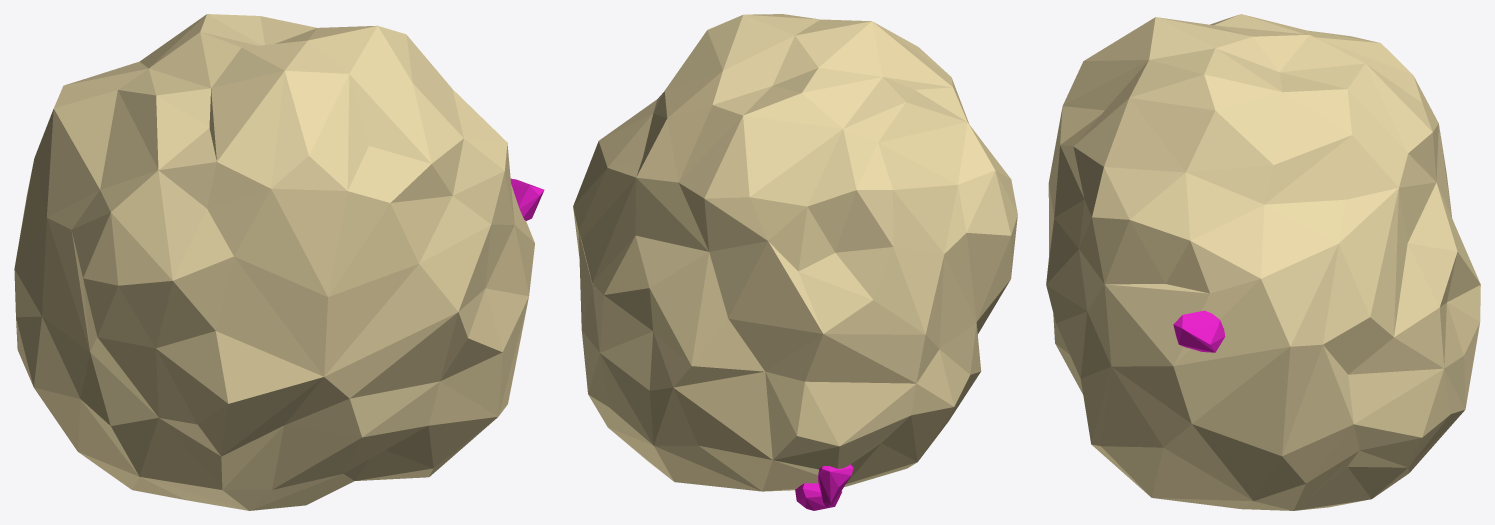
Rendered from CrystalOre (43).fbx.
3 renders of one model, left to right at view 1: azimuth 30°, elevation 25°; view 2: azimuth 150°, elevation 25°; view 3: azimuth 270°, elevation 25°, orthographic. The views are drawn at different scales.
Parts seen in each view (by area): view 1: Asteroid263; view 2: Asteroid263; view 3: Asteroid263.
Boxes of the visible parts, x1,y1,x2,y2 form: Asteroid263: [14, 14, 544, 510]; Asteroid263: [573, 14, 1017, 510]; Asteroid263: [1046, 14, 1480, 510].
Bounding box in the file's own units: 409 × 398 × 355.
